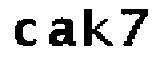7: (119, 5, 149, 50)
a: (47, 17, 78, 50)
c: (10, 16, 37, 49)
k: (80, 5, 115, 51)
